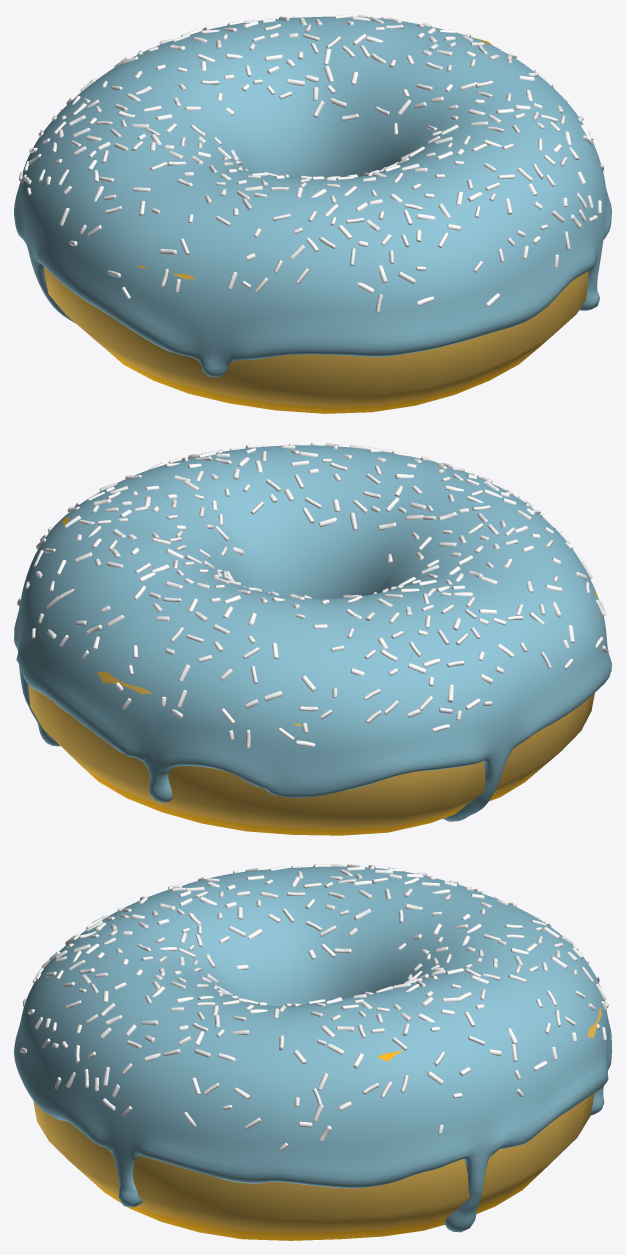
The model's file is donut4.glb.
3 renders of one model, top to bottom at view 1: azimuth 30°, elevation 25°; view 2: azimuth 150°, elevation 25°; view 3: azimuth 270°, elevation 25°, orthographic.
Parts seen in each view (by area): view 1: Icing.004, Donut.004; view 2: Icing.004, Donut.004; view 3: Icing.004, Donut.004.
Boxes of the visible parts, bbox=[...] form: Icing.004: bbox=[14, 16, 611, 377]; Donut.004: bbox=[44, 37, 588, 413]; Icing.004: bbox=[14, 445, 611, 821]; Donut.004: bbox=[28, 516, 598, 835]; Icing.004: bbox=[14, 866, 611, 1232]; Donut.004: bbox=[33, 1008, 601, 1240].
Bounding box in the file's own units: 0.1215 × 0.0519 × 0.1238.
3 materials, 1 textured.
